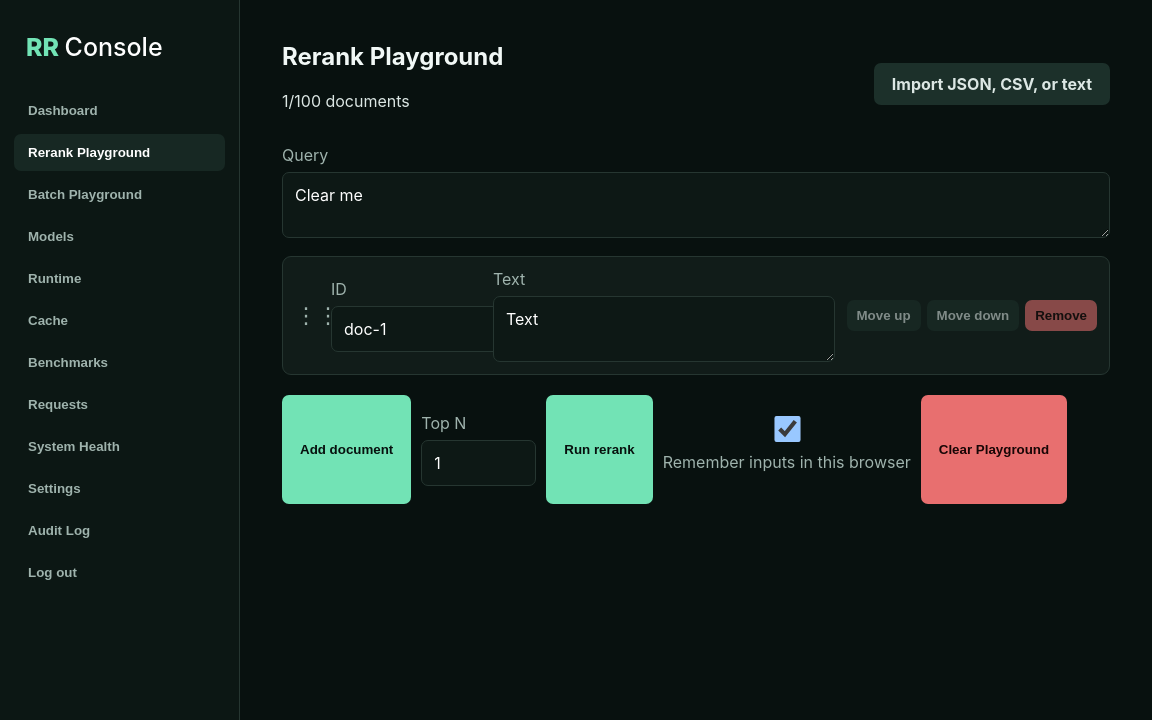
Rerank Playground persistence › clears the UI and leaves no persisted state after the debounce
(page scrolled)
Click the button "Clear Playground". click: click(994, 449)
box: x1=921 y1=395 x2=1067 y2=504
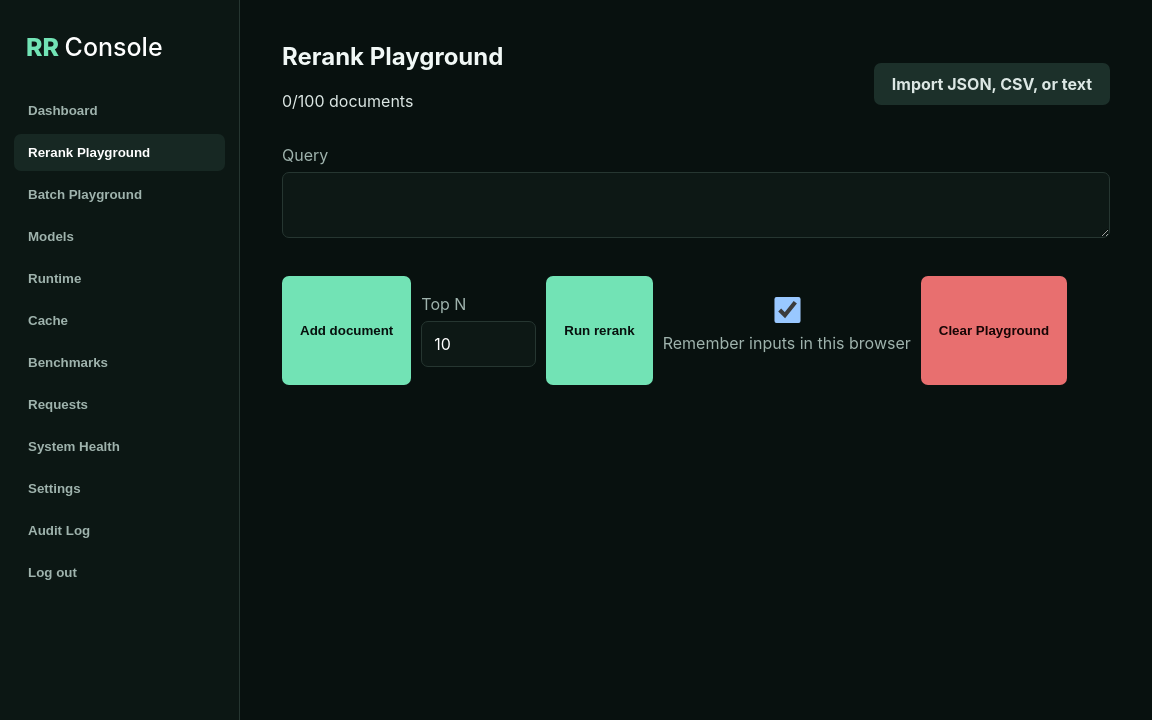
expect the text box labelled "Query" is empty: met, box x1=282 y1=172 x2=1110 y2=238
expect the number field labelled "Top N" holds "10": met, box x1=421 y1=321 x2=536 y2=367
